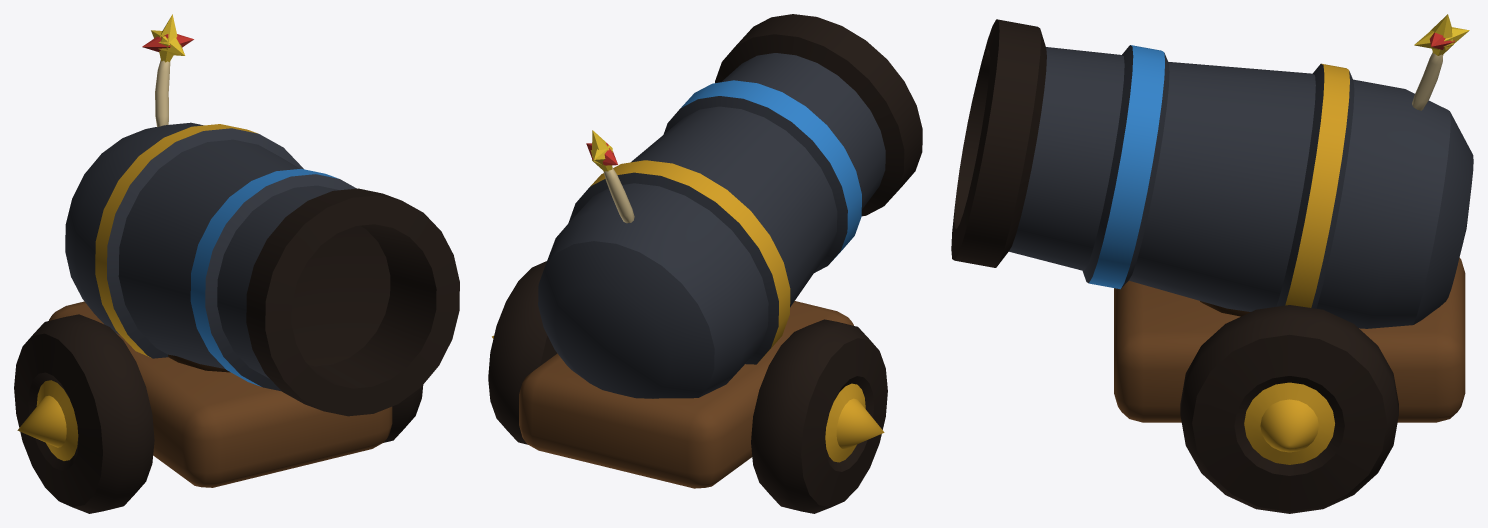
3 views of the same model, side by side, from view 1: azimuth 30°, elevation 25°; view 2: azimuth 150°, elevation 25°; view 3: azimuth 270°, elevation 25° (orthographic). The views are drawn at different scales.
Visible parts, largest first — view 1: bomba_1_torreta, bomba_0_base; view 2: bomba_1_torreta, bomba_0_base; view 3: bomba_1_torreta, bomba_0_base.
Boxes of the visible parts, box(x1,y1,x2,y2) form: bomba_1_torreta: box(65, 14, 459, 416); bomba_0_base: box(14, 301, 423, 513); bomba_1_torreta: box(538, 14, 922, 398); bomba_0_base: box(488, 261, 887, 513); bomba_1_torreta: box(951, 14, 1473, 328); bomba_0_base: box(1114, 257, 1465, 513).
Size of the model in its own units: 0.784 by 0.74 by 0.803.
